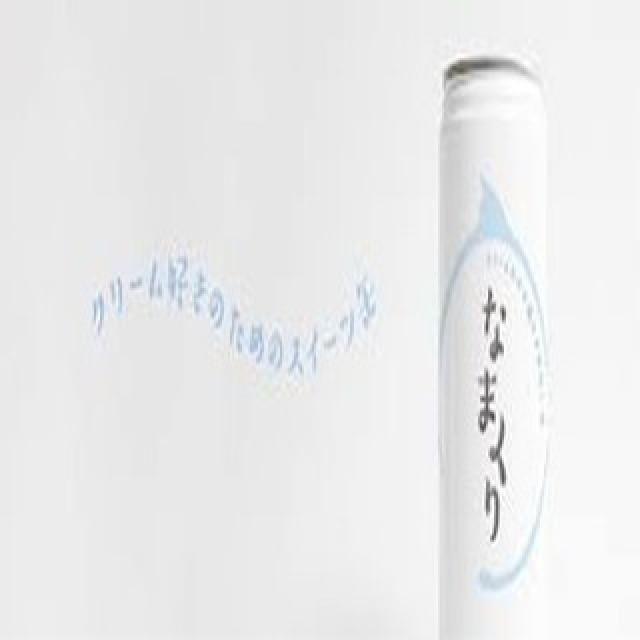recyclable: (440, 52, 553, 640)
